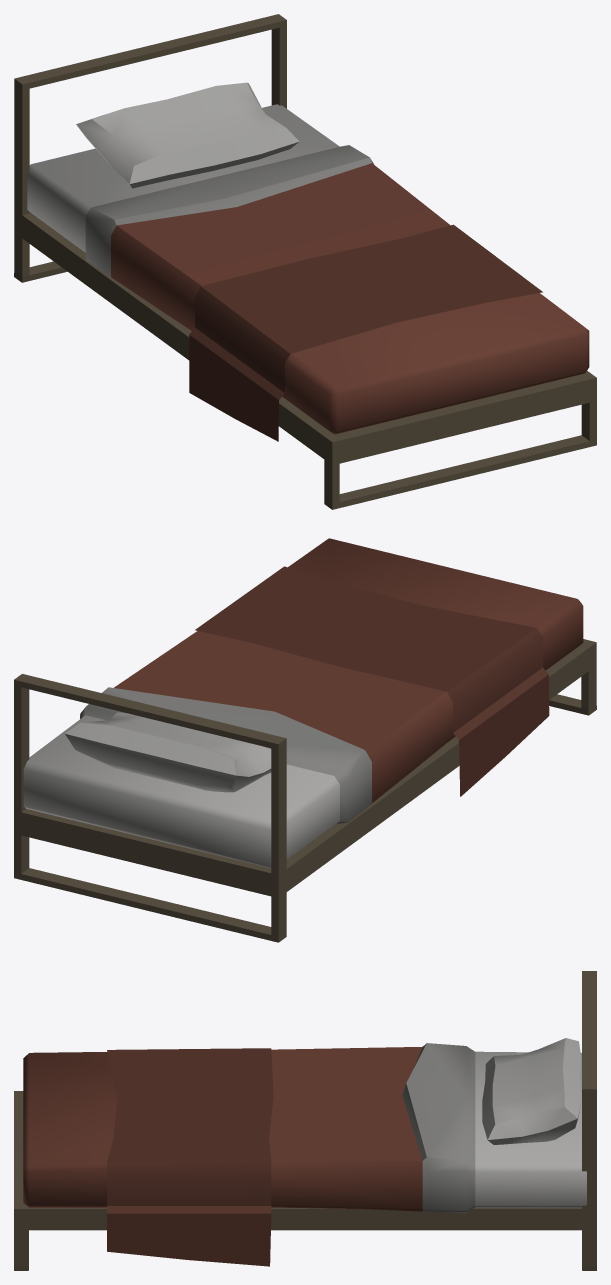
Rendered from Bed_Single.glb.
3 renders of one model, top to bottom at view 1: azimuth 30°, elevation 25°; view 2: azimuth 150°, elevation 25°; view 3: azimuth 270°, elevation 25°, orthographic. The views are drawn at different scales.
Visible parts, largest first — view 1: Bed_Single_Cube.044; view 2: Bed_Single_Cube.044; view 3: Bed_Single_Cube.044.
Boxes of the visible parts, left/top/right/bottom form: Bed_Single_Cube.044: left=14, top=14, right=596, bottom=509; Bed_Single_Cube.044: left=14, top=538, right=596, bottom=942; Bed_Single_Cube.044: left=14, top=971, right=596, bottom=1270.
Bounding box in the file's own units: 1.98 × 1.35 × 3.94.
